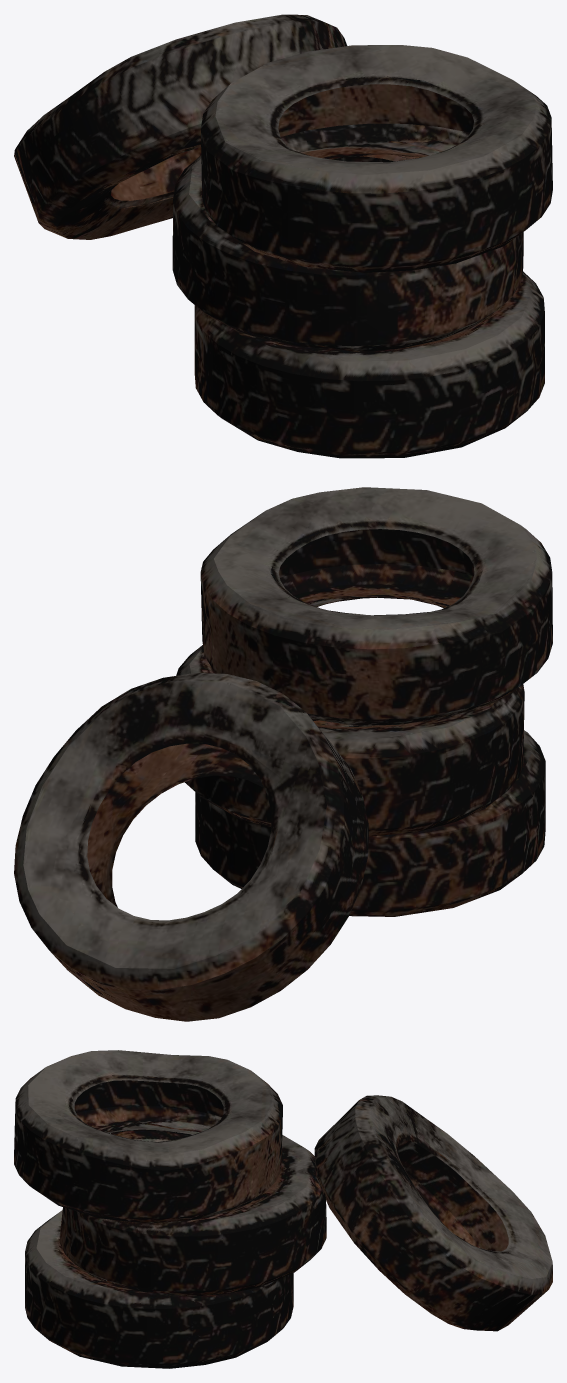
Rendered from muddy_tire_01.glb.
The picture shows the model from 3 angles, top to bottom: view 1: azimuth 30°, elevation 25°; view 2: azimuth 150°, elevation 25°; view 3: azimuth 270°, elevation 25°; orthographic projection. The views are drawn at different scales.
Parts seen in each view (by area): view 1: muddy_tire_01; view 2: muddy_tire_01; view 3: muddy_tire_01.
Part boxes in pixels (x1=…): muddy_tire_01: x1=14, y1=14, x2=552, y2=458; muddy_tire_01: x1=14, y1=487, x2=552, y2=1021; muddy_tire_01: x1=14, y1=1050, x2=552, y2=1368.
Size of what is drawn, in the model's own units: 0.3105 by 0.282 by 0.62.
1 material, 1 textured.
